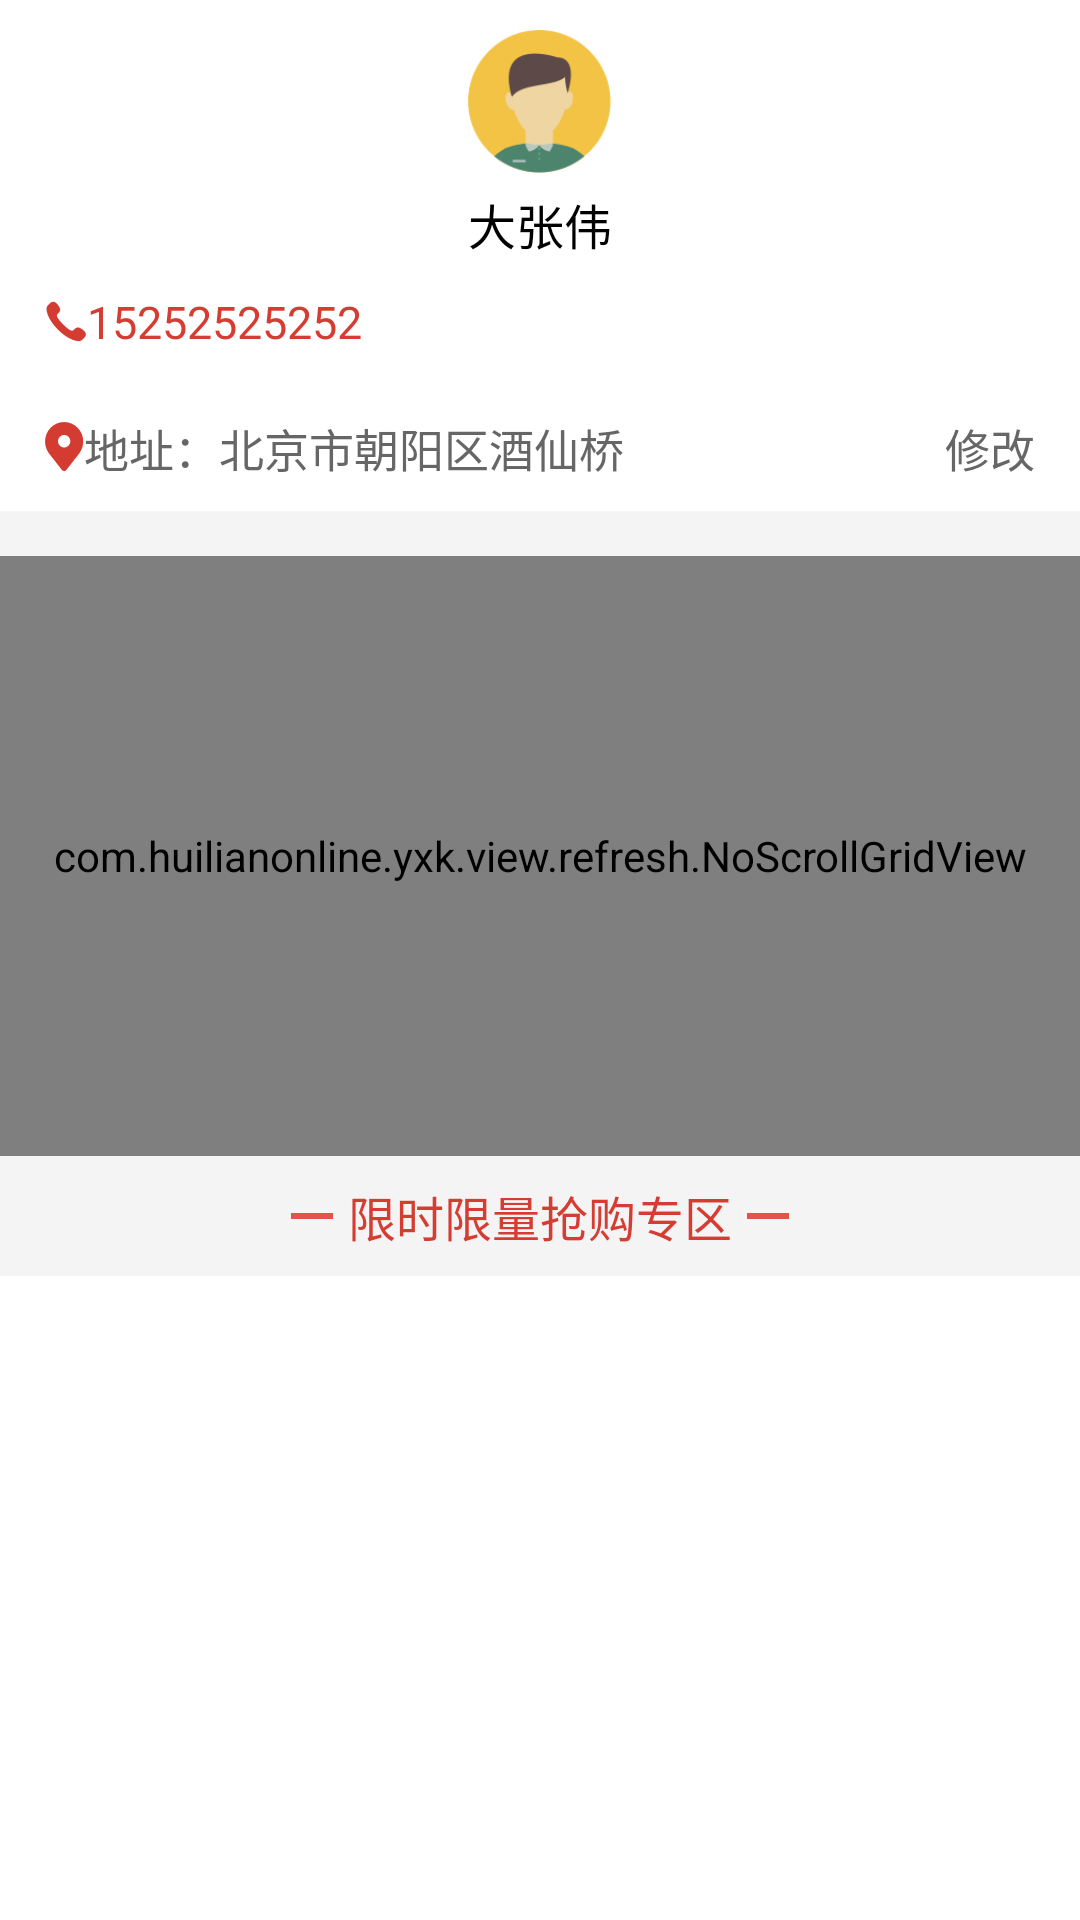

Icons on this 1080×1920 Android screen, each with the point to tap as [x,y]:
user: [539,101]
